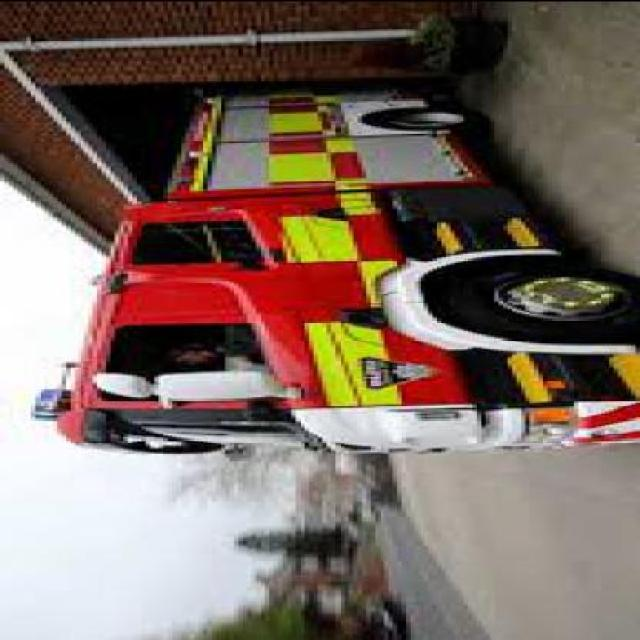Fire Truck: (18, 72, 636, 466)
